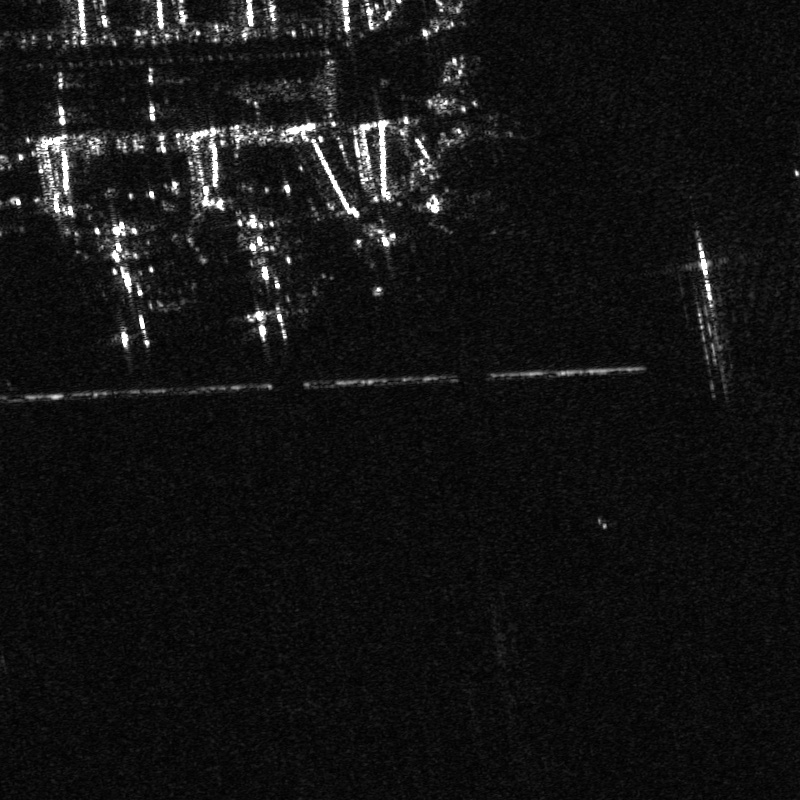Boeing737: (392, 186, 480, 235)
Boeing787: (58, 215, 166, 348)
other: (196, 204, 313, 337)
